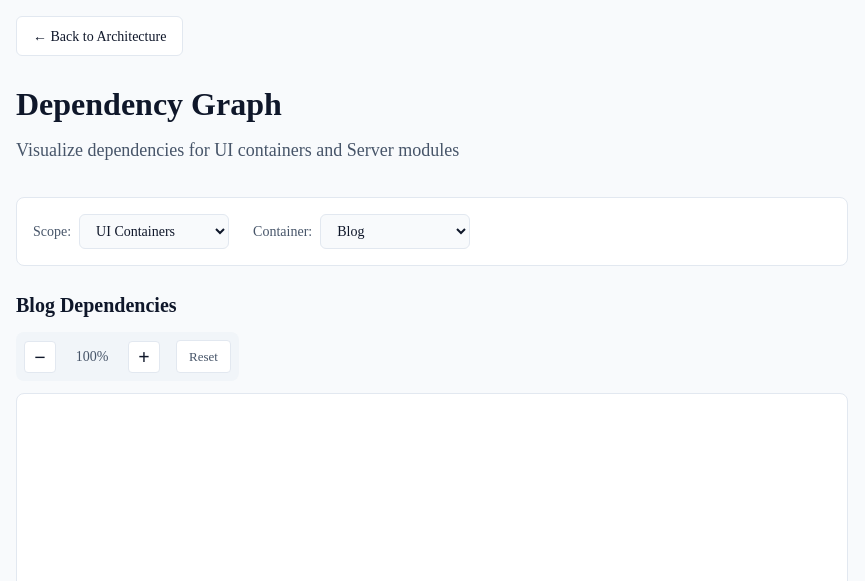
Test case: DependenciesContainer › should reset zoom and position when reset button is clicked
Expected: the text "100%" is shown, [76,349,108,364]
# Zoom in first
Click the button named "Zoom in": click(144, 356) [128,340,160,372]
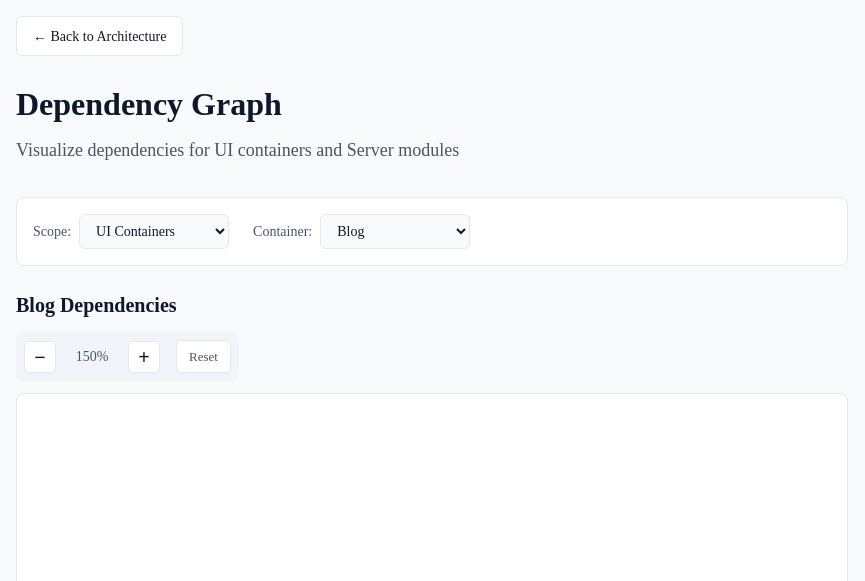
Result: the text "150%" is shown at [76,349,108,364]
Click the button with aria-label "Reset view": click(203, 357) [176,340,231,373]
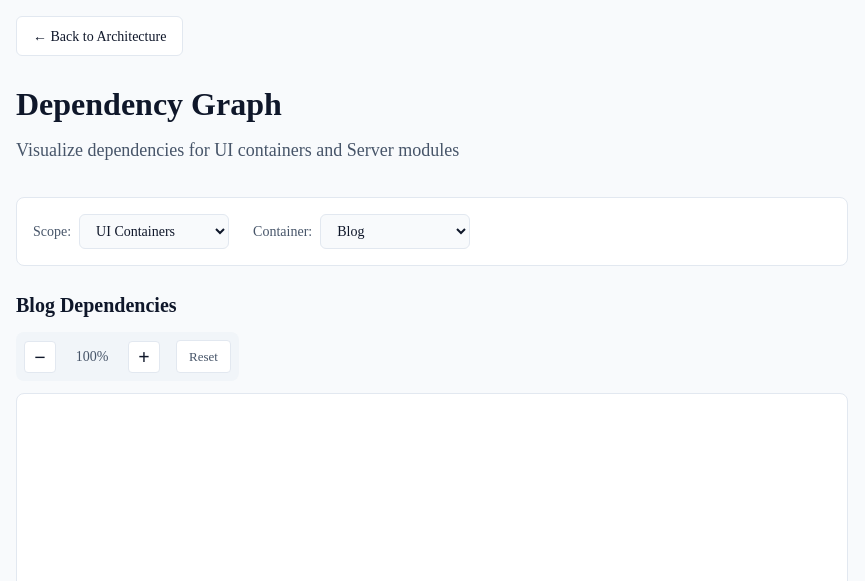
Result: the text "100%" is shown at [76,349,108,364]
